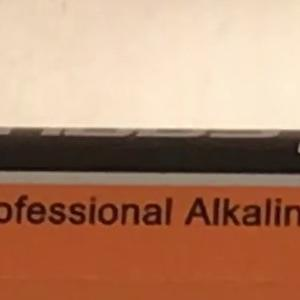keyword: (175, 188, 242, 236)
